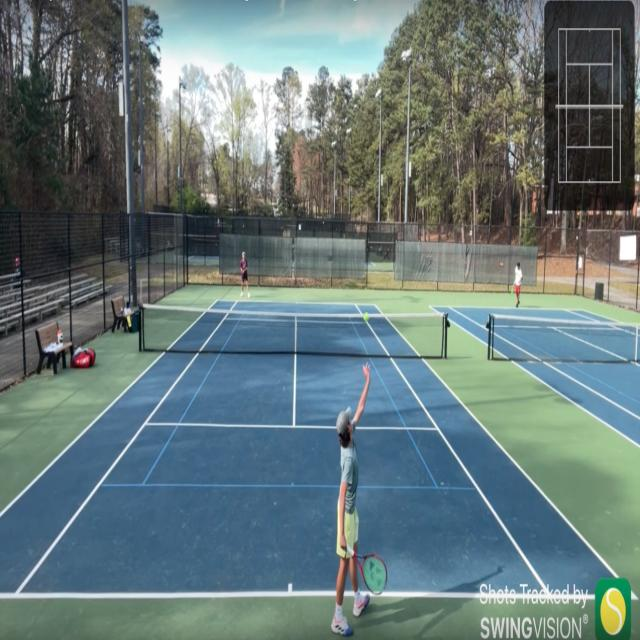ball: (364, 312, 369, 322)
